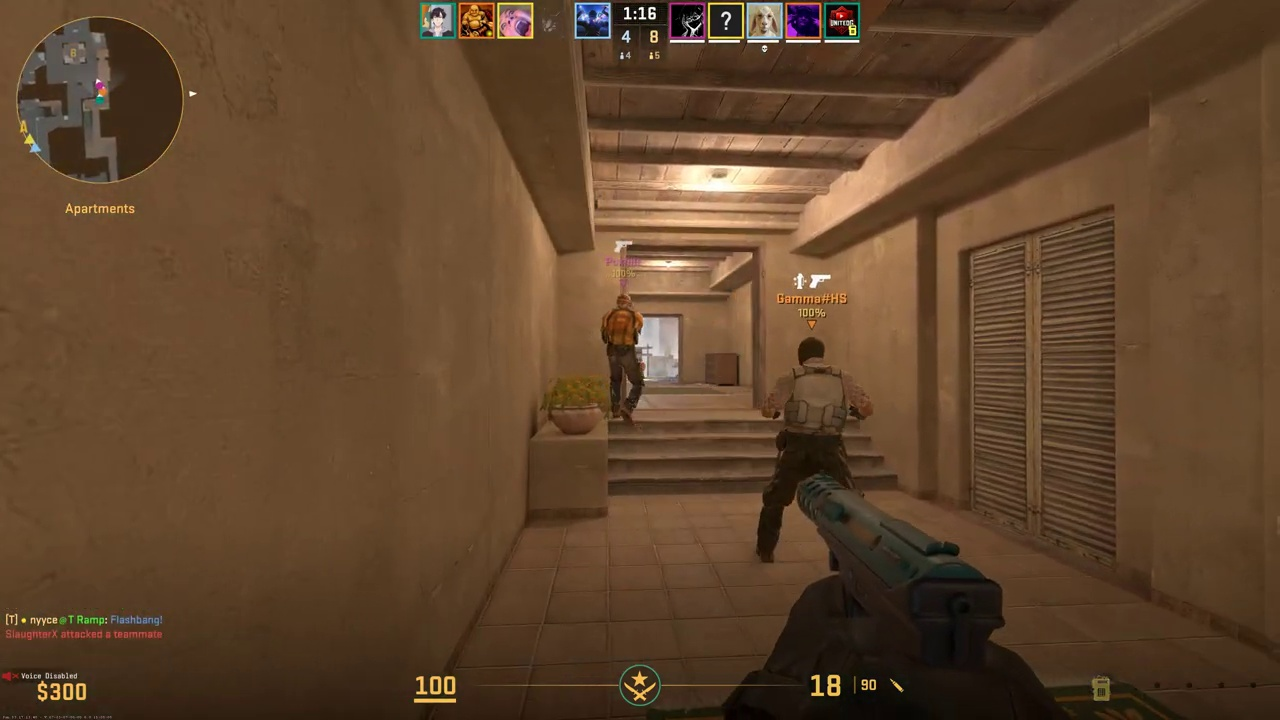Terrorist: (757, 337, 864, 565), (604, 294, 642, 427)
